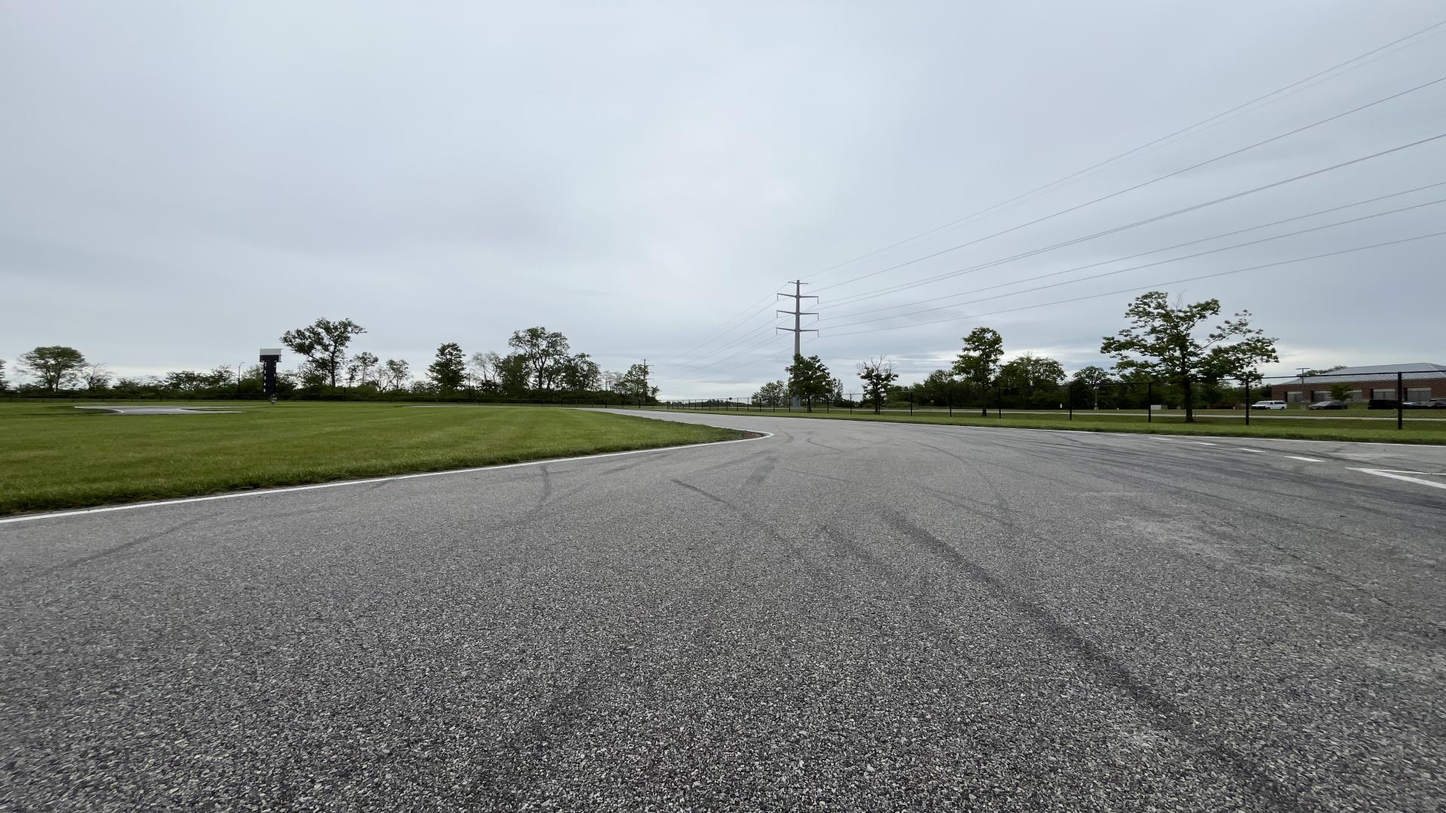white-line: (48, 425, 775, 516), (778, 418, 1433, 446), (1347, 467, 1445, 488), (1285, 456, 1322, 461), (1232, 448, 1266, 452), (1149, 437, 1172, 440), (1190, 442, 1217, 444), (1111, 434, 1131, 436), (685, 422, 695, 425), (664, 420, 670, 421)
